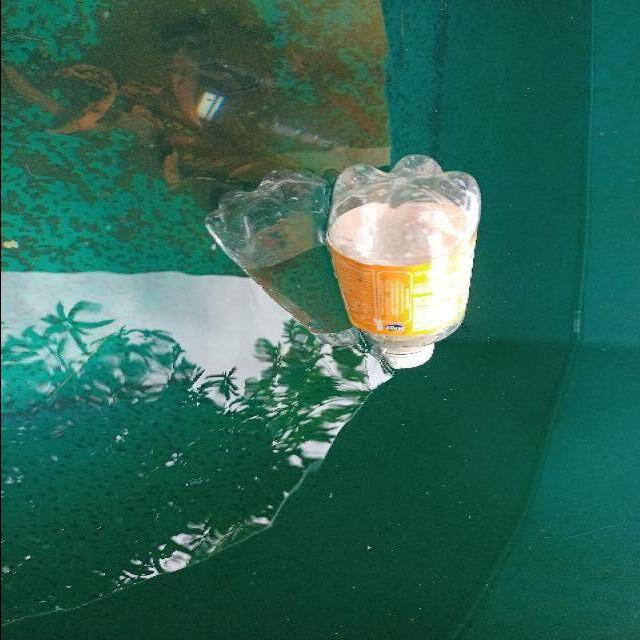Bottle: (318, 144, 487, 374)
